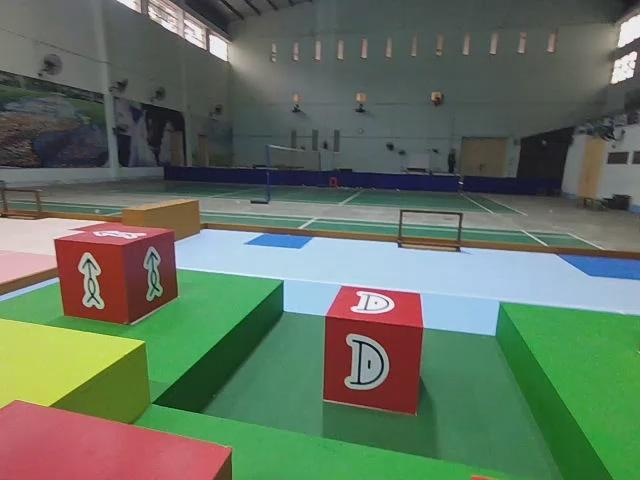R2 Real: (321, 281, 427, 417), (51, 221, 181, 324)
